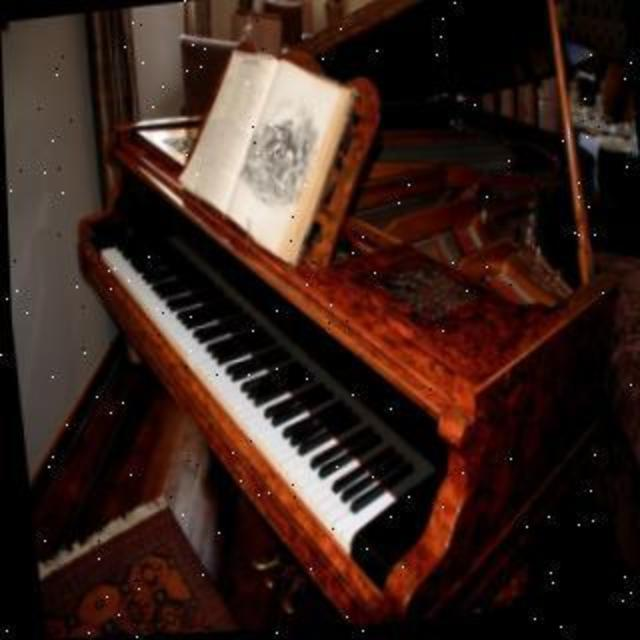book: (162, 36, 374, 280)
